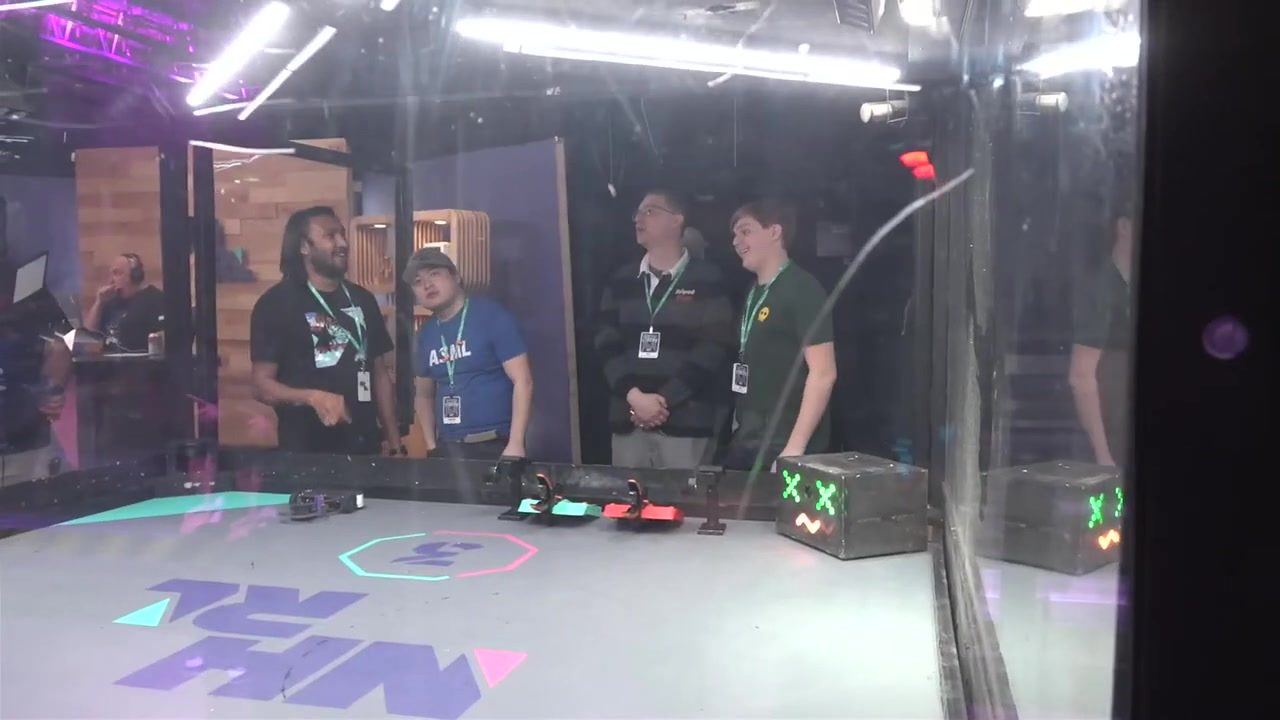combatbot: (516, 479, 684, 521), (281, 489, 366, 523)
housebot: (776, 452, 928, 561)
